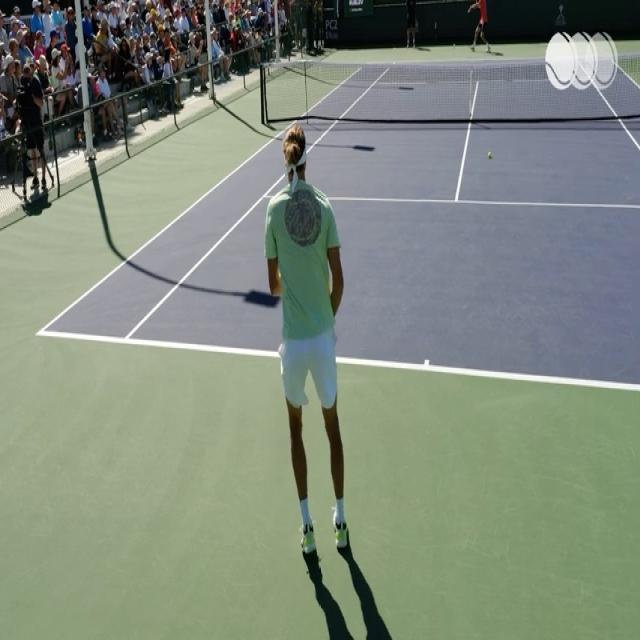ready-position: (264, 123, 352, 552)
